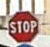stop: (7, 9, 39, 42)
